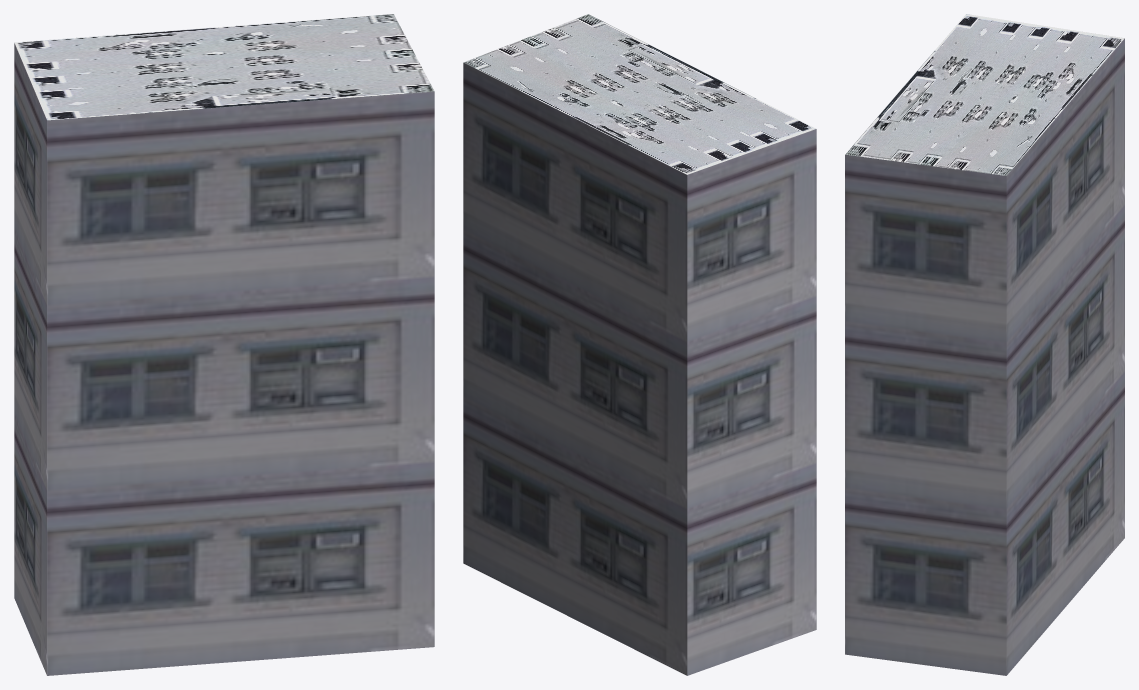
Rendered from ResTex__398.fbx.
3 views of the same model, side by side, from view 1: azimuth 30°, elevation 25°; view 2: azimuth 150°, elevation 25°; view 3: azimuth 270°, elevation 25° (orthographic). The views are drawn at different scales.
Parts seen in each view (by area): view 1: CityEngineMaterial_1_m, CityEngineMaterial_m; view 2: CityEngineMaterial_1_m, CityEngineMaterial_m; view 3: CityEngineMaterial_1_m, CityEngineMaterial_m.
Part boxes in pixels (left/top/right/bottom): CityEngineMaterial_1_m: left=14, top=43, right=434, bottom=675; CityEngineMaterial_m: left=14, top=14, right=434, bottom=120; CityEngineMaterial_1_m: left=463, top=62, right=816, bottom=675; CityEngineMaterial_m: left=464, top=14, right=815, bottom=174; CityEngineMaterial_1_m: left=845, top=38, right=1124, bottom=675; CityEngineMaterial_m: left=845, top=14, right=1124, bottom=175.
Bounding box in the file's own units: 6.26 × 9 × 4.56.
Materials: 2 (2 with a texture image).
